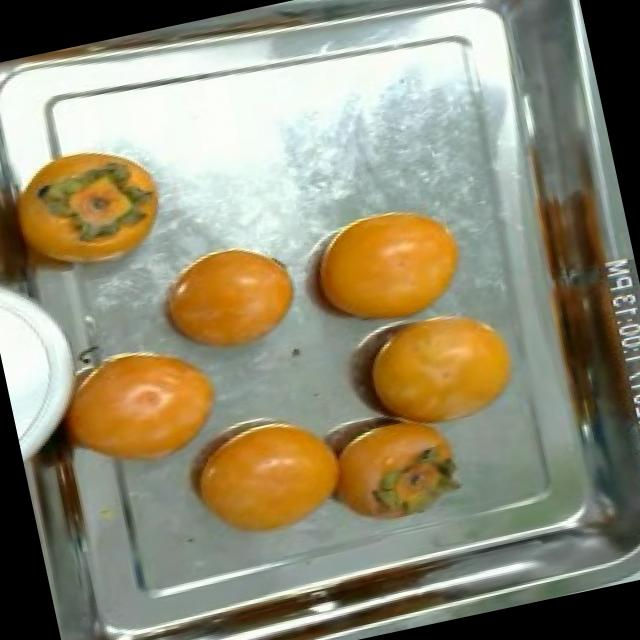Fruit: (37, 314, 247, 491), (342, 292, 535, 449), (171, 396, 360, 554), (290, 190, 482, 344), (138, 228, 314, 376), (308, 400, 477, 542), (6, 126, 178, 265)
